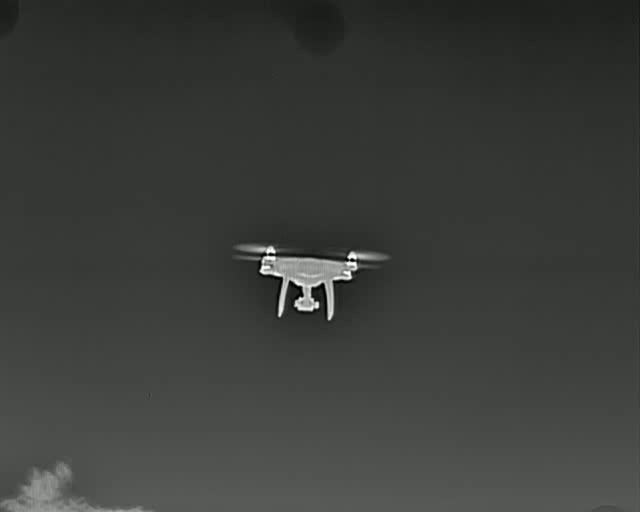DJI-Phantom: (231, 239, 391, 322)
